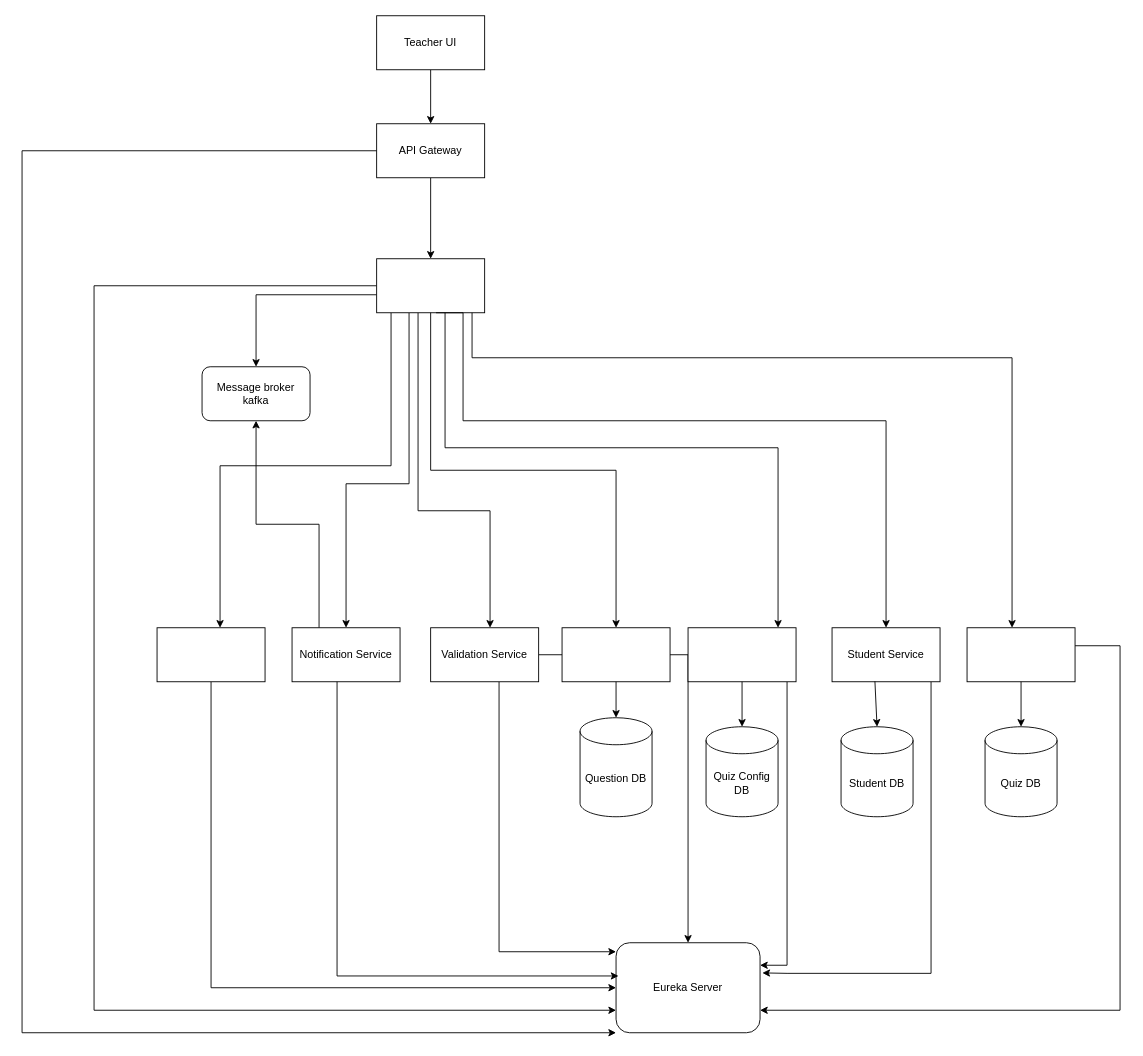
Image size: 1143x1056. Some labels were removed from this diagram. Here are the shapes that lost their labels. From the top down, the box of each, then its label:
(376, 258, 485, 313): Quiz Creation Service
(156, 627, 265, 682): Import Service
(561, 627, 670, 682): Question Service
(687, 627, 796, 682): Quiz Config Service
(966, 627, 1075, 682): Quiz Service
